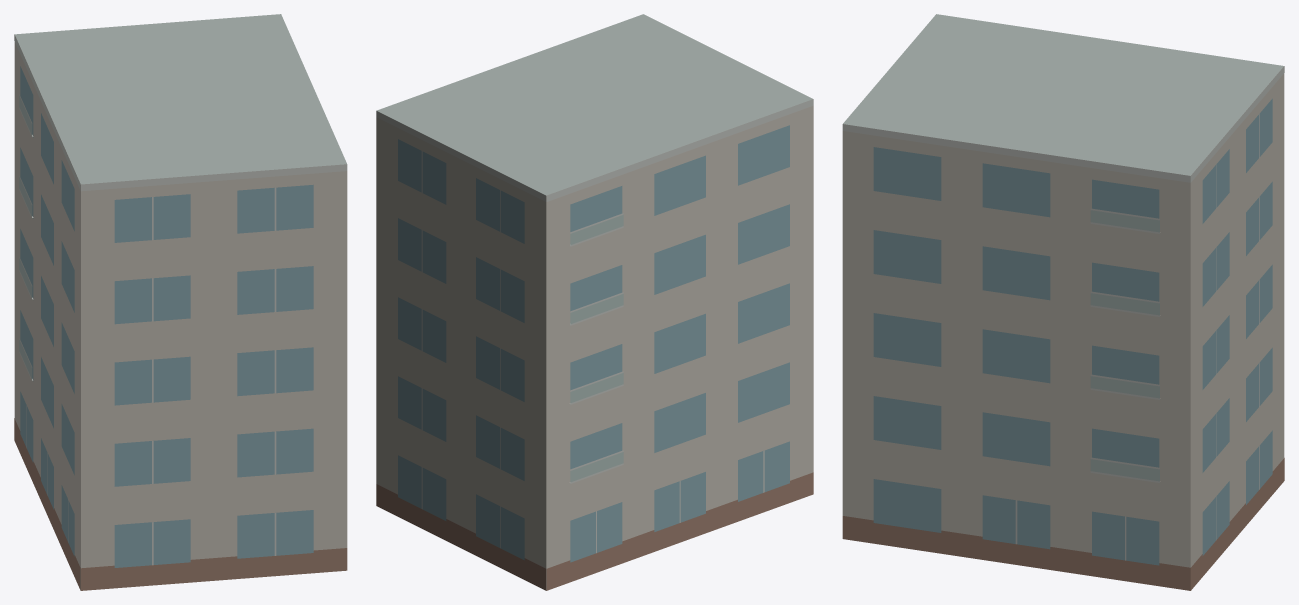
The model's file is survey-upis-32851845.glb.
The picture shows the model from 3 angles, left to right: view 1: azimuth 30°, elevation 25°; view 2: azimuth 150°, elevation 25°; view 3: azimuth 270°, elevation 25°; orthographic projection. The views are drawn at different scales.
Parts seen in each view (by area): view 1: survey-upis-32851845.tmp; view 2: survey-upis-32851845.tmp; view 3: survey-upis-32851845.tmp.
Part boxes in pixels (x1,y1,x2,y2): survey-upis-32851845.tmp: (14,14,347,590); survey-upis-32851845.tmp: (376,14,813,590); survey-upis-32851845.tmp: (842,14,1284,590).
Bounding box in the file's own units: 12.23 × 14.6 × 14.09.
